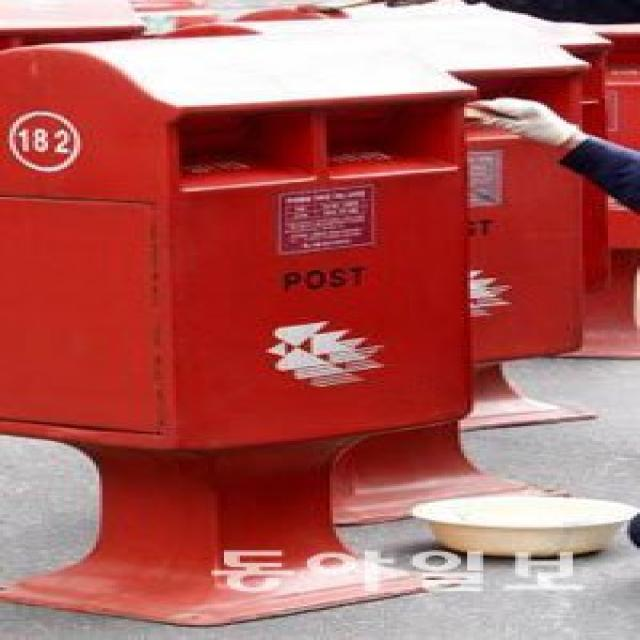Post Box: (0, 28, 482, 632)
